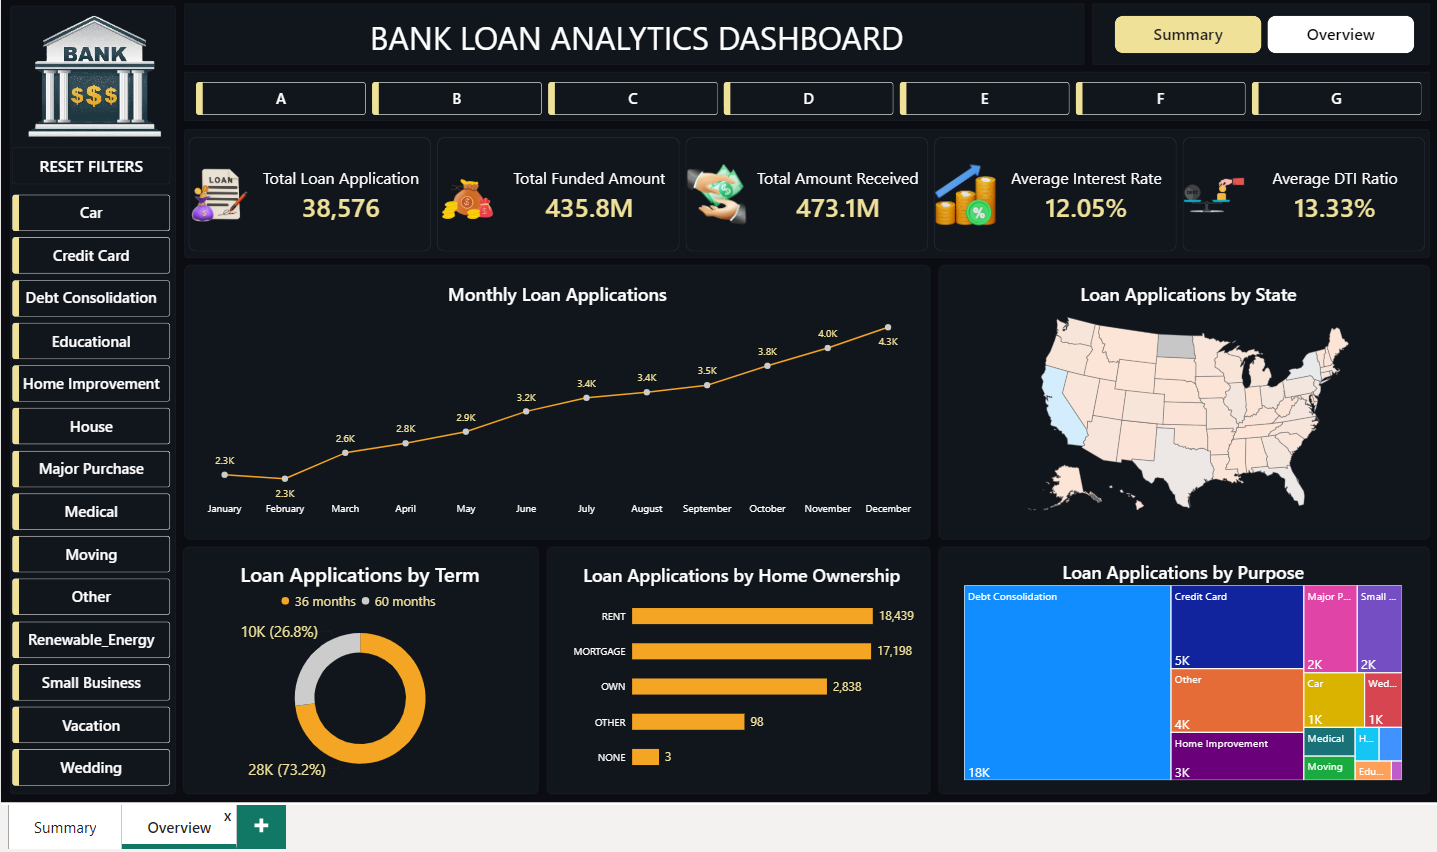

The page's visual inventory and layout, read from the dashboard file:
{"tool":"powerbi","page":{"name":"Overview","canvas":[1920,1080],"ordinal":1},"visuals":[{"type":"cardVisual","fields":{"Data":["financial_loan.Total Loan Application","financial_loan.Total Funded Amount","financial_loan.Total Amount Received","financial_loan.Average Interest Rate","financial_loan.Average DTI Rate"]},"box":[250,187.8,1653.3,153.3],"z":0},{"type":"image","box":[0,0,250,210],"z":1000},{"type":"advancedSlicerVisual","fields":{"Values":["financial_loan.PURPOSE"]},"box":[14.3,264.3,211.4,802.9],"z":2000},{"type":"advancedSlicerVisual","fields":{"Values":["financial_loan.GRADE"]},"box":[260,113,1643,44],"z":3000},{"type":"actionButton","box":[14.3,200,211.4,50],"z":4000},{"type":"textbox","box":[250,24.3,1197.1,68.6],"z":5000},{"type":"pageNavigator","box":[1488.6,24.3,400,50],"z":6000},{"type":"lineChart","title":"Monthly Loan Applications","fields":{"Category":["financial_loan.ISSUE_DATE.Variation.Date Hierarchy.Month"],"Y":["financial_loan.Total Loan Application"]},"box":[250,365.7,985.7,348.6],"z":7000},{"type":"donutChart","title":"Loan Applications by Term","fields":{"Category":["financial_loan.TERM"],"Y":["financial_loan.Total Loan Application"]},"box":[250,738.6,458.6,328.6],"z":8000},{"type":"clusteredBarChart","title":"Loan Applications by Home Ownership","fields":{"Category":["financial_loan.HOME_OWNERSHIP"],"Y":["financial_loan.Total Loan Application"]},"box":[742.9,741.4,492.9,321.4],"z":9000},{"type":"treemap","title":"Loan Applications by Purpose","fields":{"Group":["financial_loan.PURPOSE"],"Values":["financial_loan.Total Loan Application"]},"box":[1271.4,738.6,617.1,324.3],"z":10000},{"type":"shapeMap","title":"Loan Applications by State","fields":{"Category":["financial_loan.ADDRESS_STATE"],"Value":["financial_loan.Total Loan Application"]},"box":[1271.4,365.7,631.4,350],"z":11000}]}

Visuals, with their boxes on the page's 1920x1080 design canvas (x1, y1, x2, y2). These are canvas units, not pixel positions in the 1437x852 screenshot, which may show the page scaled, cropped or inside an application window:
cardVisual - financial_loan.Total Loan Application x financial_loan.Total Funded Amount: {"x1": 250, "y1": 188, "x2": 1903, "y2": 341}
image: {"x1": 0, "y1": 0, "x2": 250, "y2": 210}
advancedSlicerVisual - financial_loan.PURPOSE: {"x1": 14, "y1": 264, "x2": 226, "y2": 1067}
advancedSlicerVisual - financial_loan.GRADE: {"x1": 260, "y1": 113, "x2": 1903, "y2": 157}
actionButton: {"x1": 14, "y1": 200, "x2": 226, "y2": 250}
textbox: {"x1": 250, "y1": 24, "x2": 1447, "y2": 93}
pageNavigator: {"x1": 1489, "y1": 24, "x2": 1889, "y2": 74}
"Monthly Loan Applications" lineChart: {"x1": 250, "y1": 366, "x2": 1236, "y2": 714}
"Loan Applications by Term" donutChart: {"x1": 250, "y1": 739, "x2": 709, "y2": 1067}
"Loan Applications by Home Ownership" clusteredBarChart: {"x1": 743, "y1": 741, "x2": 1236, "y2": 1063}
"Loan Applications by Purpose" treemap: {"x1": 1271, "y1": 739, "x2": 1888, "y2": 1063}
"Loan Applications by State" shapeMap: {"x1": 1271, "y1": 366, "x2": 1903, "y2": 716}
